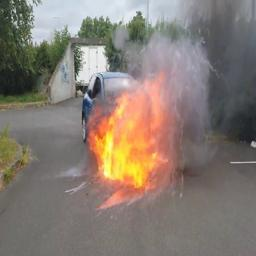fire: (89, 73, 171, 188)
